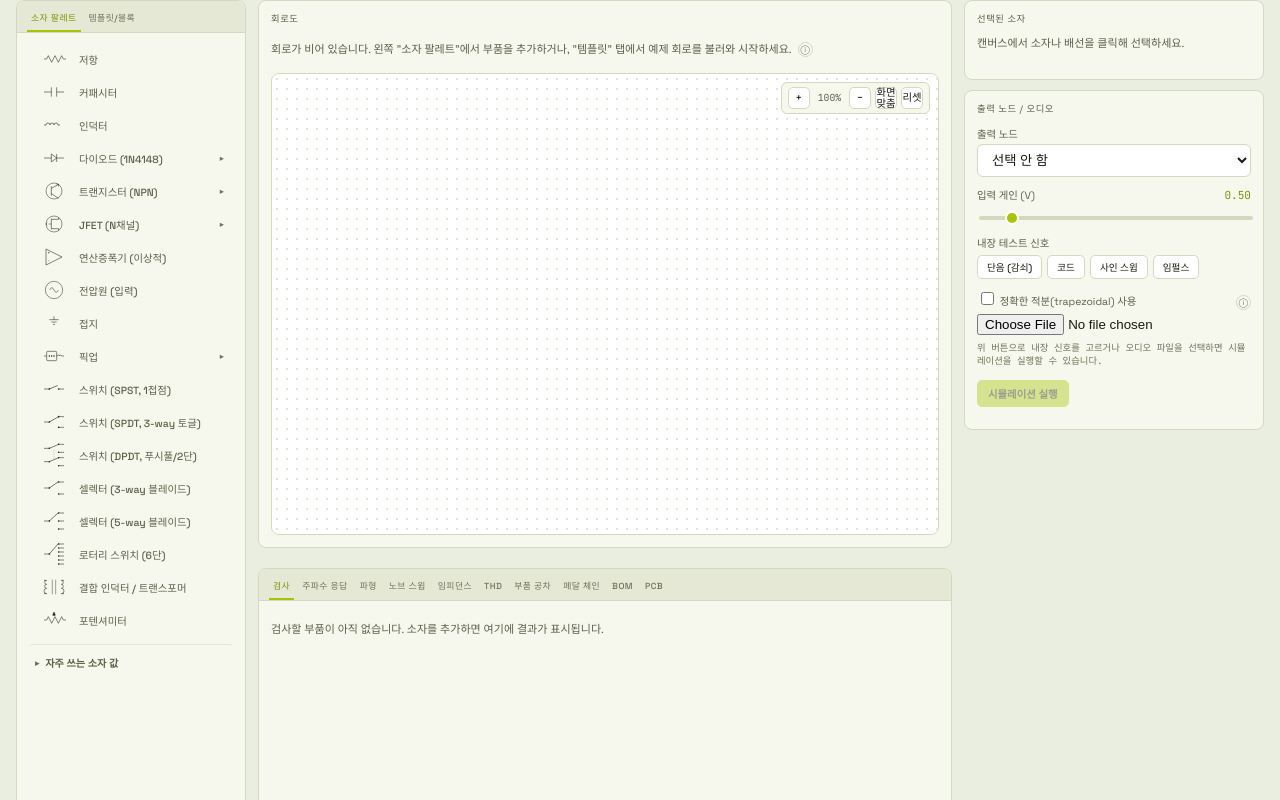
SchematicEditor › adding a part from the palette enables undo and clears the empty-circuit hint
(page scrolled)
Click the button "저항".
click(131, 59)  # box left=29, top=43, right=233, bottom=75
(page scrolled)
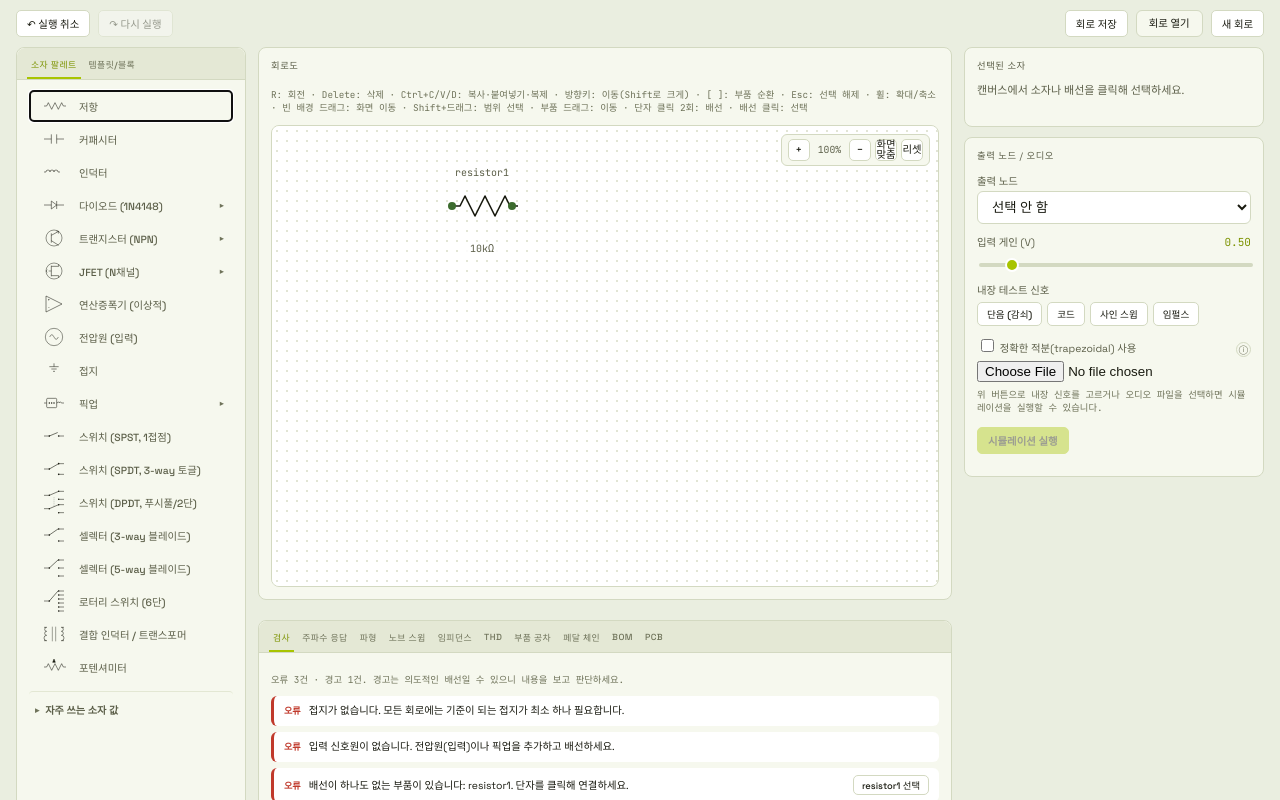
Expected: the text "회로가 비어 있습니다" is gone
Expected: the button "↶ 실행 취소" is enabled, left=16, top=10, right=90, bottom=37
Expected: the button "새 회로" is enabled, left=1211, top=10, right=1264, bottom=37
